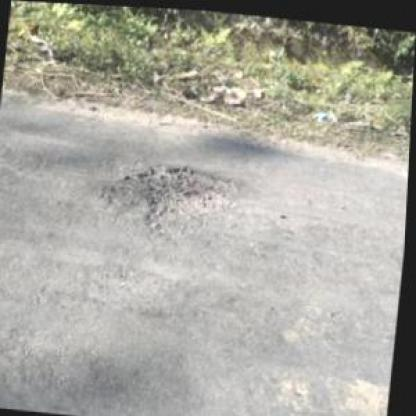pothole: (126, 158, 247, 236)
